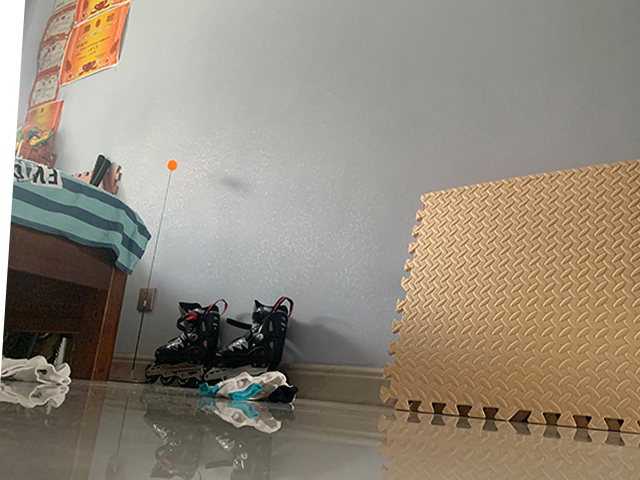bed: (7, 158, 152, 381)
socks: (200, 371, 299, 404), (2, 354, 73, 386)
